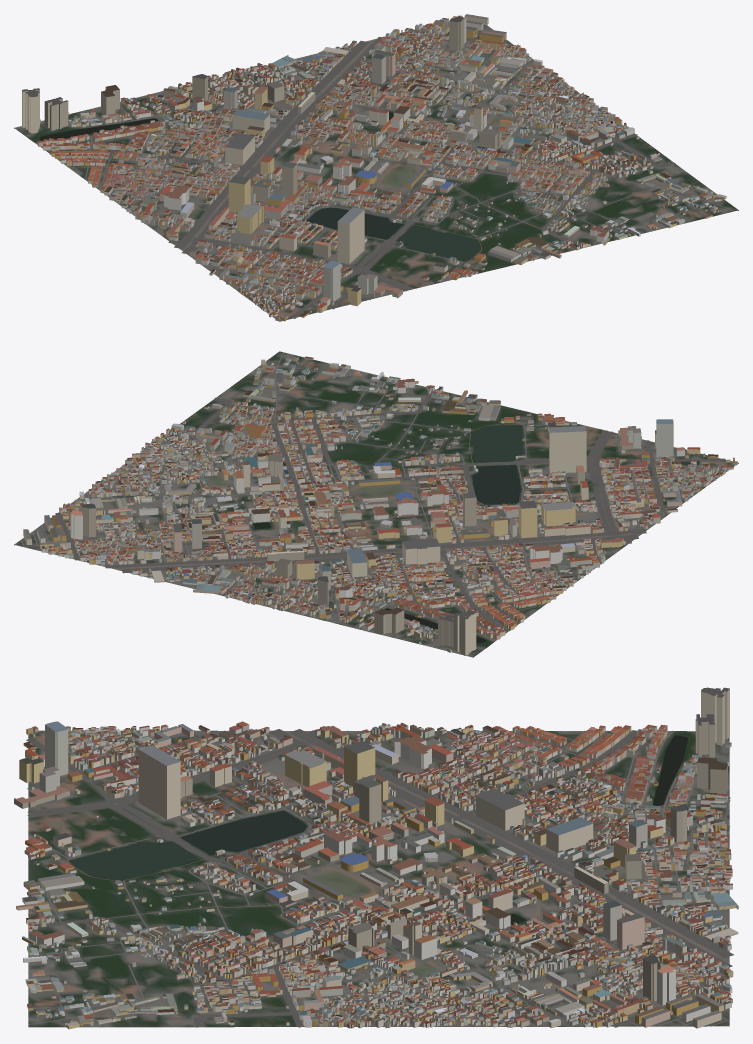
The picture shows the model from 3 angles, top to bottom: view 1: azimuth 30°, elevation 25°; view 2: azimuth 150°, elevation 25°; view 3: azimuth 270°, elevation 25°; orthographic projection. The views are drawn at different scales.
Visible parts, largest first — view 1: buildings, ground, roads, water; view 2: buildings, ground, roads, water; view 3: buildings, ground, roads, water.
Boxes of the visible parts, x1=… form: buildings: x1=22, y1=14, x2=726, y2=321; ground: x1=14, y1=15, x2=738, y2=321; roads: x1=35, y1=26, x2=734, y2=319; water: x1=39, y1=112, x2=479, y2=312; buildings: x1=23, y1=356, x2=737, y2=655; ground: x1=14, y1=351, x2=738, y2=657; roads: x1=21, y1=352, x2=734, y2=650; water: x1=253, y1=425, x2=716, y2=643; buildings: x1=14, y1=687, x2=738, y2=1029; ground: x1=28, y1=730, x2=729, y2=1027; roads: x1=26, y1=729, x2=733, y2=1027; water: x1=68, y1=735, x2=687, y2=925.
Size of the model in its own units: 1424 by 122 by 1449.
